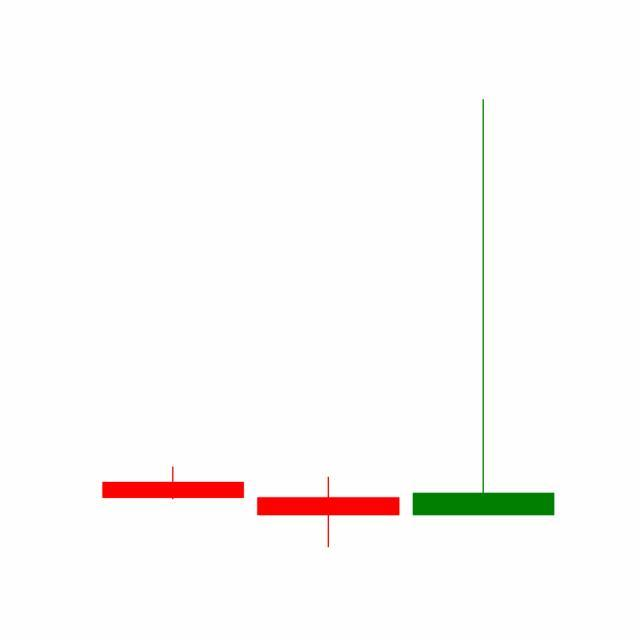Spinning Top: (250, 477, 407, 550)
